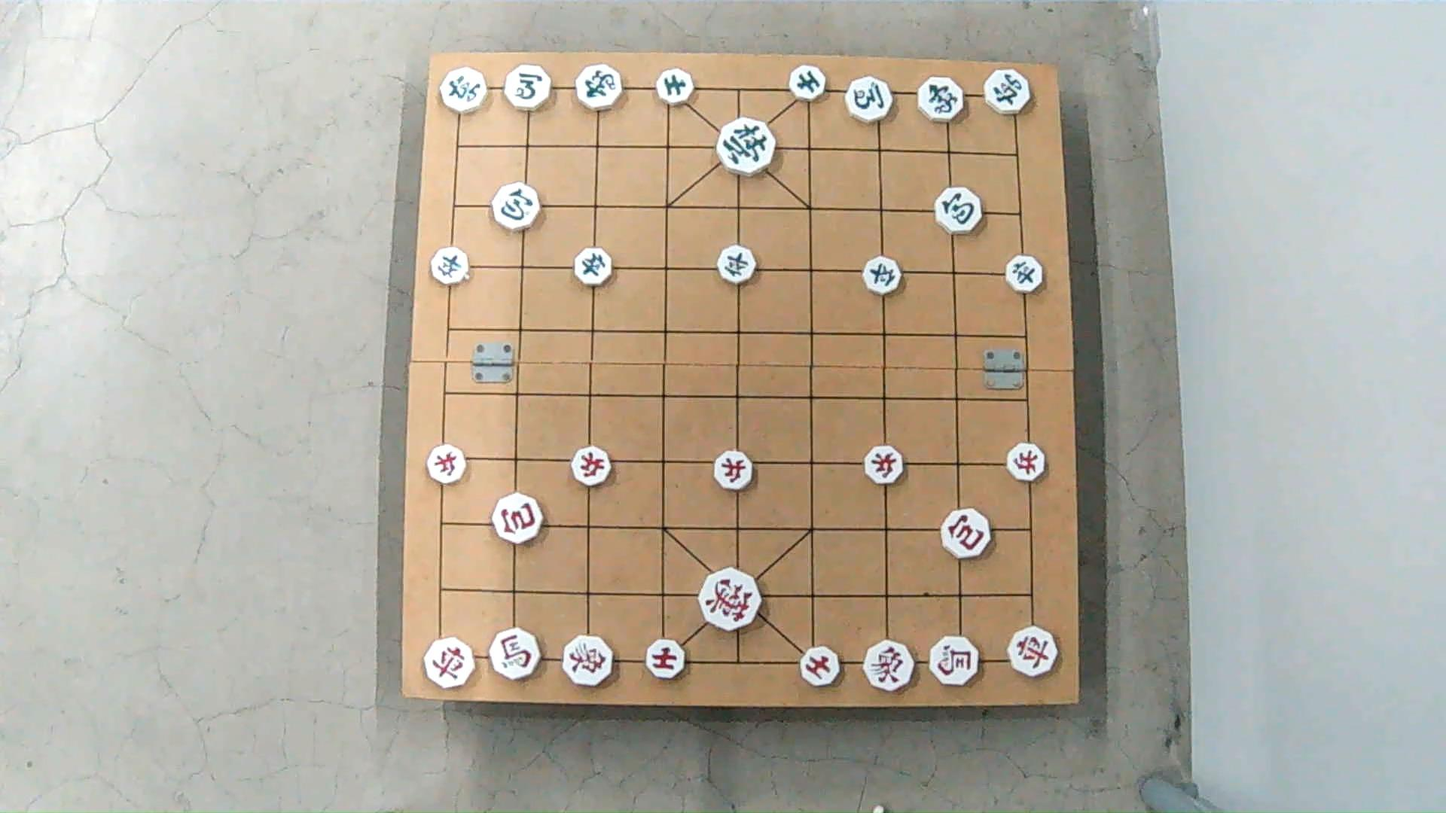cha_green: (439, 68, 490, 113), (984, 69, 1034, 113)
cha_red: (423, 638, 481, 688), (1008, 623, 1057, 677)
jol_green: (432, 249, 474, 285), (572, 249, 612, 286), (717, 247, 757, 284), (864, 257, 903, 294), (1008, 256, 1046, 292)
jol_red: (569, 446, 611, 485), (863, 446, 905, 484), (713, 452, 754, 489), (424, 446, 464, 483), (1008, 444, 1048, 481)
ma_green: (844, 75, 898, 123), (502, 66, 551, 110)
ma_red: (491, 632, 544, 680), (928, 638, 978, 687)
po_green: (489, 185, 538, 230), (936, 189, 984, 234)
po_red: (941, 510, 993, 558), (490, 495, 540, 540)
sa_green: (786, 63, 829, 99), (653, 71, 693, 105)
sa_red: (799, 644, 843, 683), (645, 637, 683, 680)
sang_green: (575, 62, 622, 110), (916, 75, 966, 120)
sang_red: (562, 635, 618, 686), (867, 640, 917, 692)
wang_green: (717, 119, 776, 172)
wang_red: (702, 574, 762, 631)
